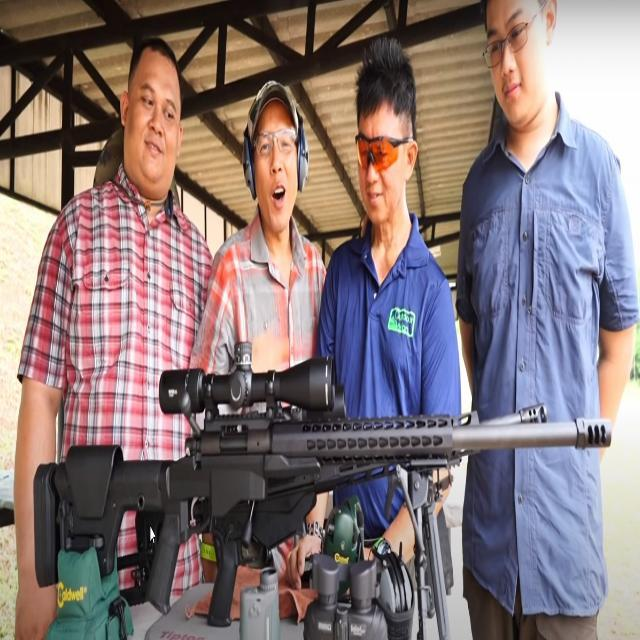rifle: (28, 326, 620, 614)
